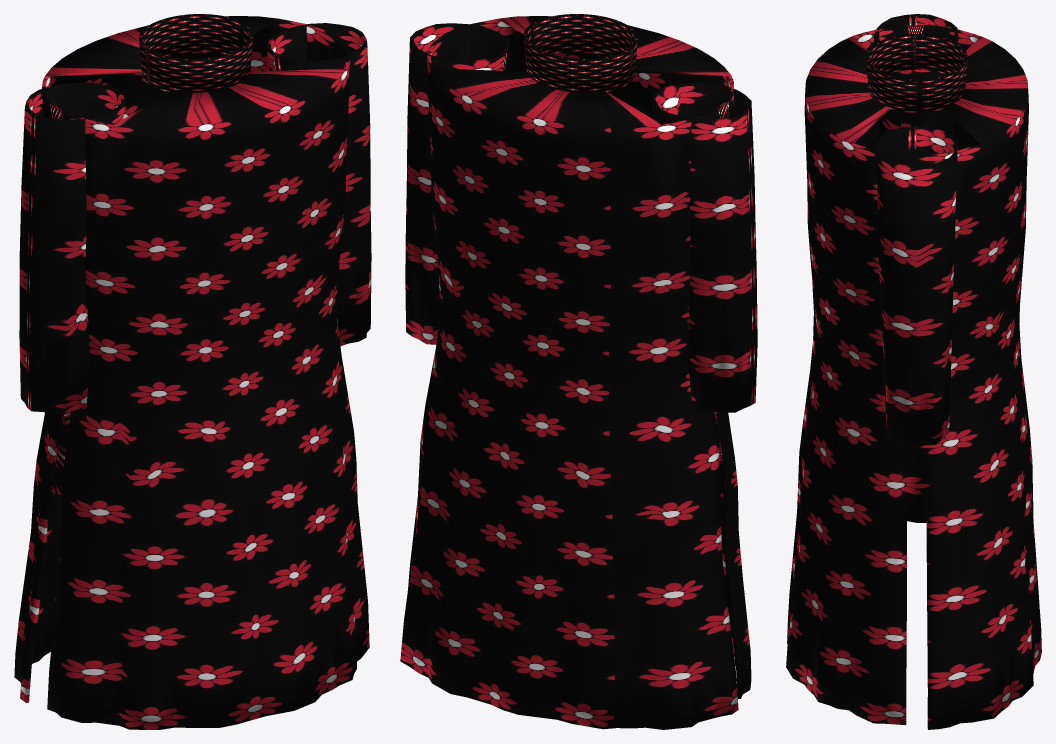
Rendered from kurti_low.glb.
3 views of the same model, side by side, from view 1: azimuth 30°, elevation 25°; view 2: azimuth 150°, elevation 25°; view 3: azimuth 270°, elevation 25° (orthographic). The views are drawn at different scales.
Visible parts, largest first — view 1: KurtiBody_low, Sleeve_L_low, Sleeve_R_low, Collar_low; view 2: KurtiBody_low, Sleeve_L_low, Sleeve_R_low, Collar_low; view 3: KurtiBody_low, Sleeve_R_low, Collar_low, Sleeve_L_low.
Part boxes in pixels (x1=…): KurtiBody_low: x1=14, y1=16, x2=369, y2=729; Sleeve_L_low: x1=19, y1=82, x2=125, y2=413; Sleeve_R_low: x1=266, y1=23, x2=371, y2=345; Collar_low: x1=138, y1=14, x2=253, y2=92; KurtiBody_low: x1=400, y1=16, x2=751, y2=729; Sleeve_L_low: x1=651, y1=82, x2=757, y2=412; Sleeve_R_low: x1=405, y1=23, x2=509, y2=344; Collar_low: x1=523, y1=14, x2=637, y2=92; KurtiBody_low: x1=786, y1=25, x2=1041, y2=729; Sleeve_R_low: x1=873, y1=126, x2=958, y2=446; Collar_low: x1=865, y1=34, x2=967, y2=112; Sleeve_L_low: x1=873, y1=14, x2=958, y2=136.
Bounding box in the file's own units: 0.4608 × 0.8053 × 0.3128.
1 material, 1 textured.
